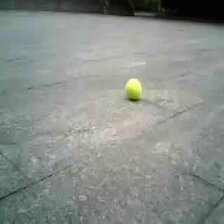tennis: (126, 78, 142, 100)
